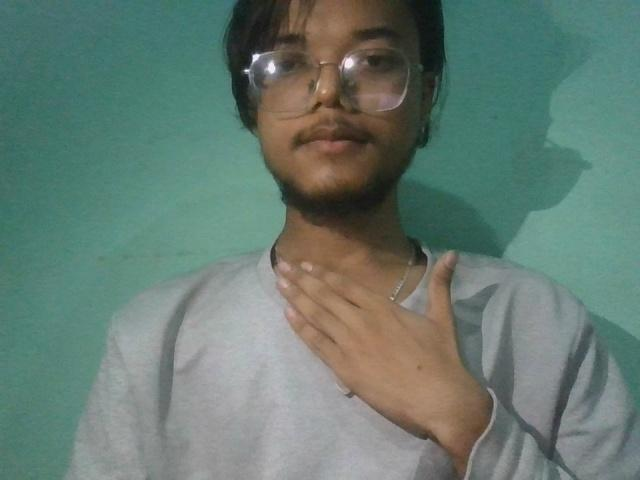Please: (195, 222, 565, 457)
